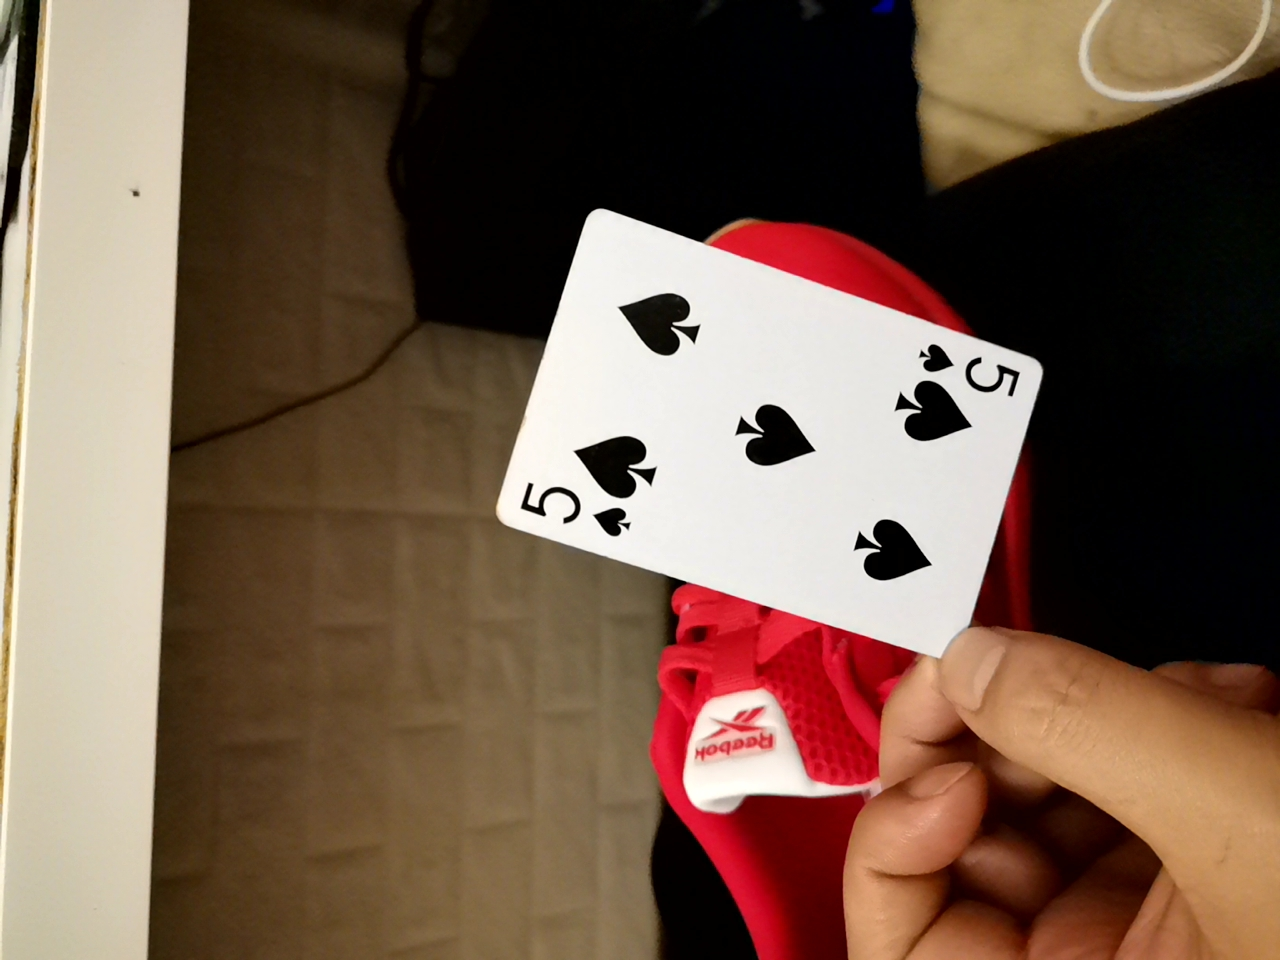ht 5: (491, 215, 1052, 664)
